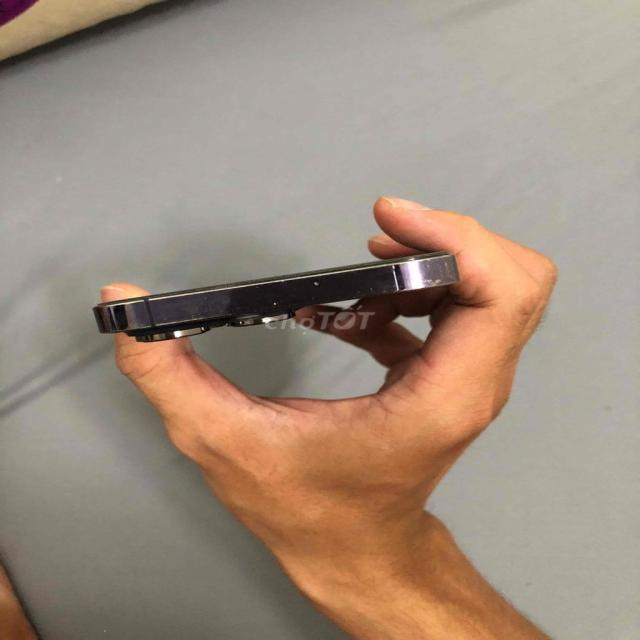scratch: (81, 250, 467, 348), (123, 306, 232, 334), (165, 272, 311, 292), (381, 271, 473, 295), (307, 278, 343, 292), (263, 296, 294, 312)
